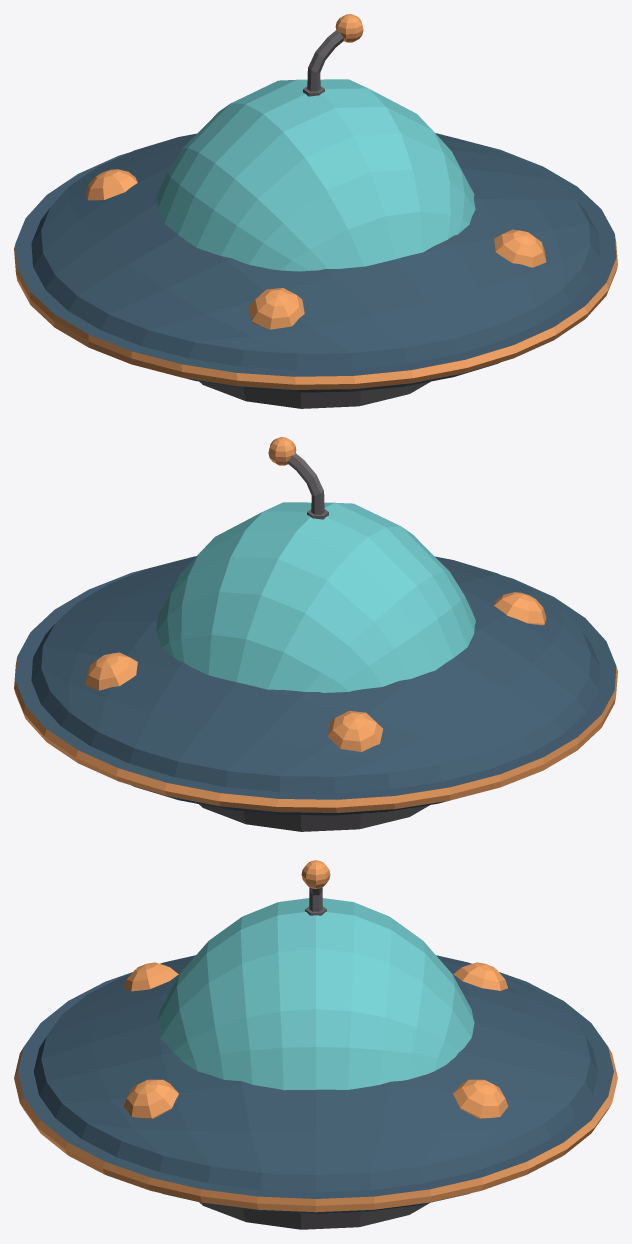
The model's file is UFO.fbx.
3 renders of one model, top to bottom at view 1: azimuth 30°, elevation 25°; view 2: azimuth 150°, elevation 25°; view 3: azimuth 270°, elevation 25°, orthographic.
Parts seen in each view (by area): view 1: Cylinder.007, Object018, Object017, Object020; view 2: Cylinder.007, Object018, Object017, Object020; view 3: Cylinder.007, Object018, Object017, Object020.
Part boxes in pixels (x1,y1,x2,y2): Cylinder.007: [15, 133, 616, 392]; Object018: [156, 79, 475, 271]; Object017: [14, 14, 617, 389]; Object020: [199, 30, 430, 408]; Cylinder.007: [15, 556, 616, 815]; Object018: [156, 502, 475, 692]; Object017: [14, 437, 617, 812]; Object020: [199, 453, 429, 831]; Cylinder.007: [18, 955, 613, 1213]; Object018: [157, 898, 474, 1090]; Object017: [14, 860, 617, 1212]; Object020: [199, 887, 429, 1229].
Bounding box in the file's own units: 1059 × 655 × 1059.
